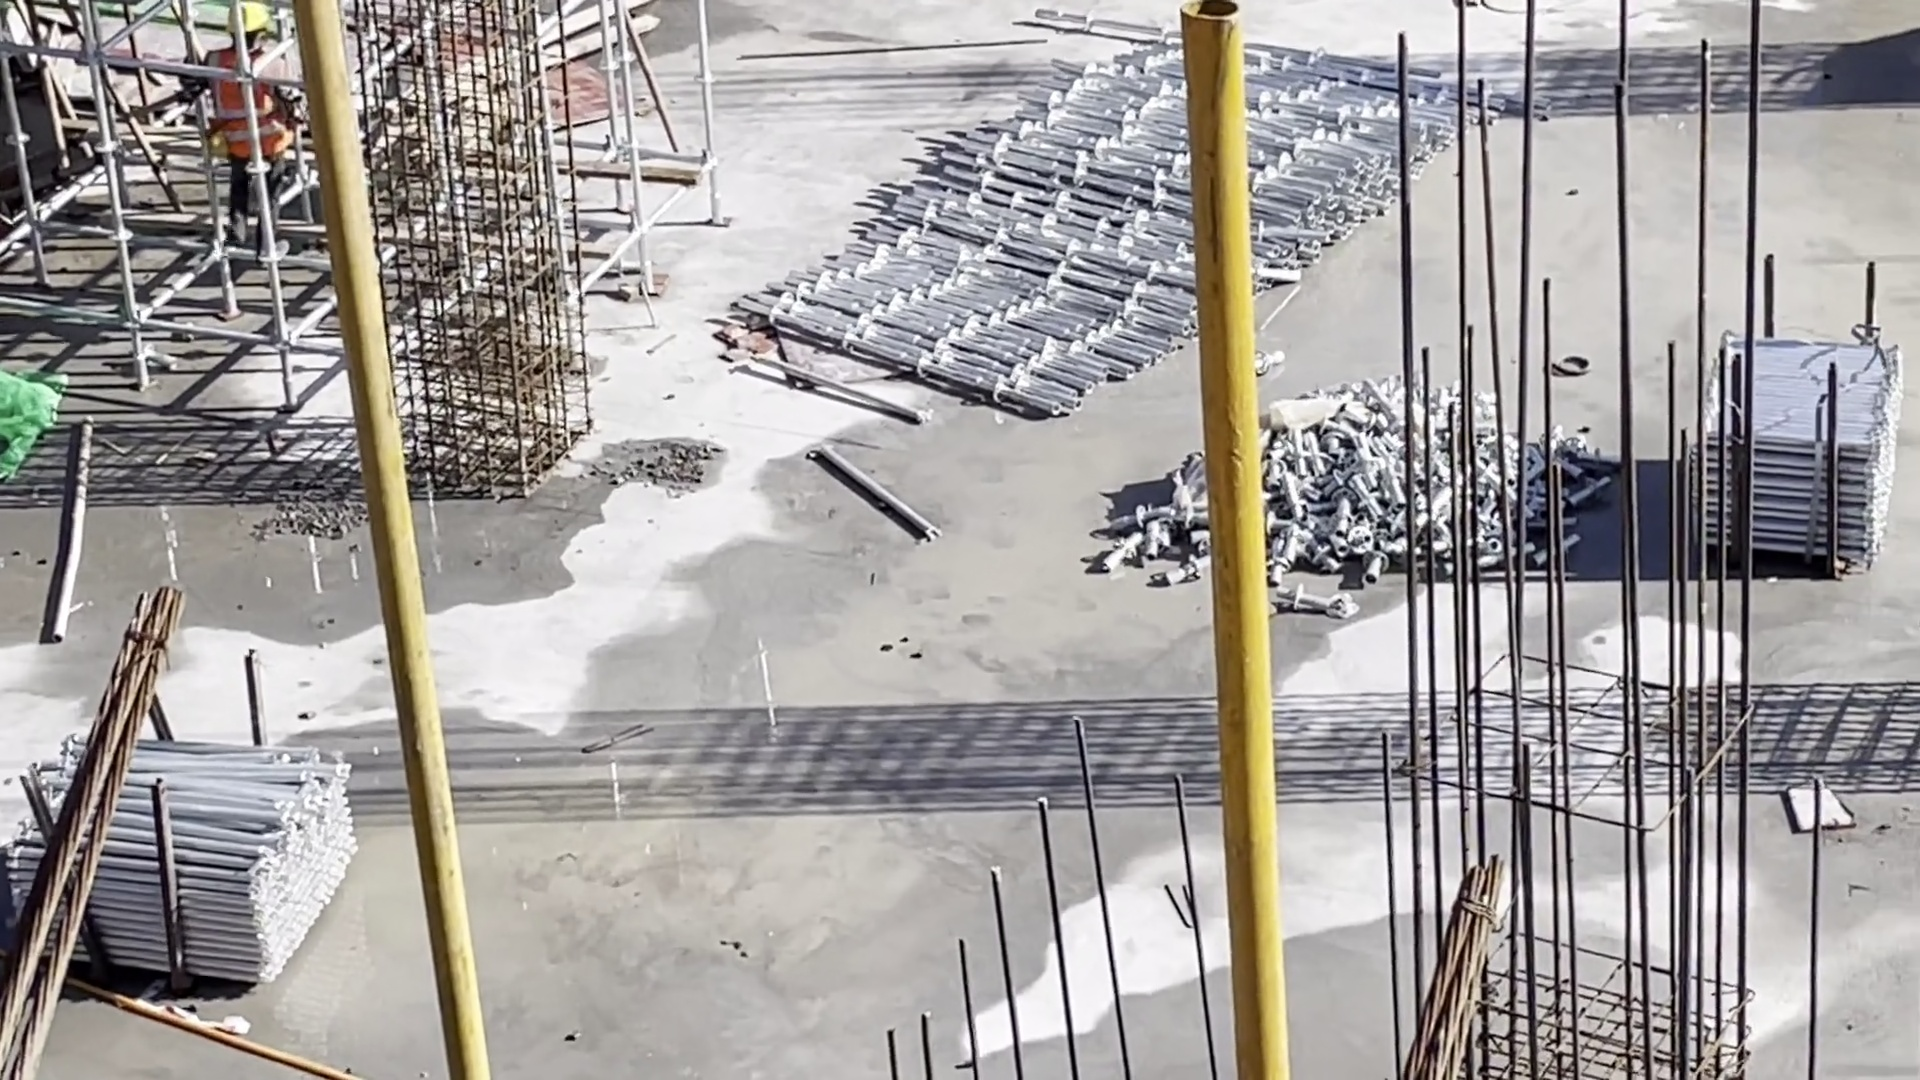helmet: (222, 5, 272, 32)
person: (196, 2, 307, 256)
scaffold: (733, 26, 1503, 416), (2, 726, 366, 990), (1692, 331, 1902, 560)
vest: (204, 49, 296, 157)
